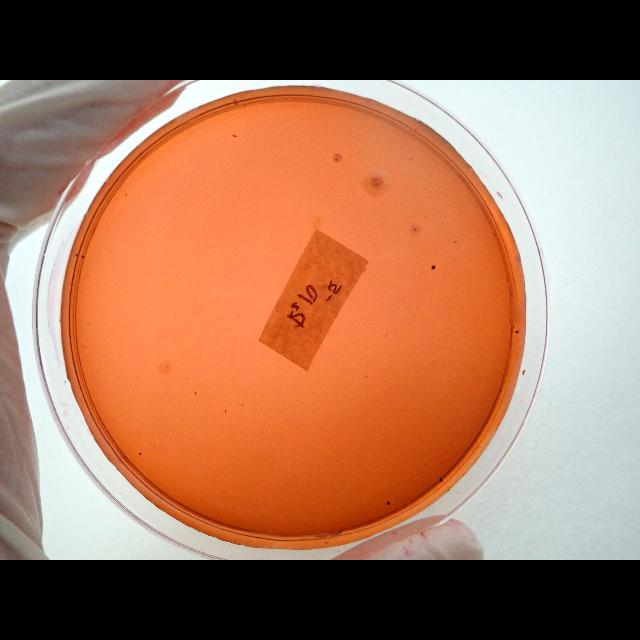colony: (438, 476, 444, 484), (514, 328, 520, 336), (431, 264, 437, 270), (386, 500, 392, 506), (81, 254, 85, 260), (324, 540, 328, 546), (138, 452, 142, 456), (76, 252, 78, 258)
